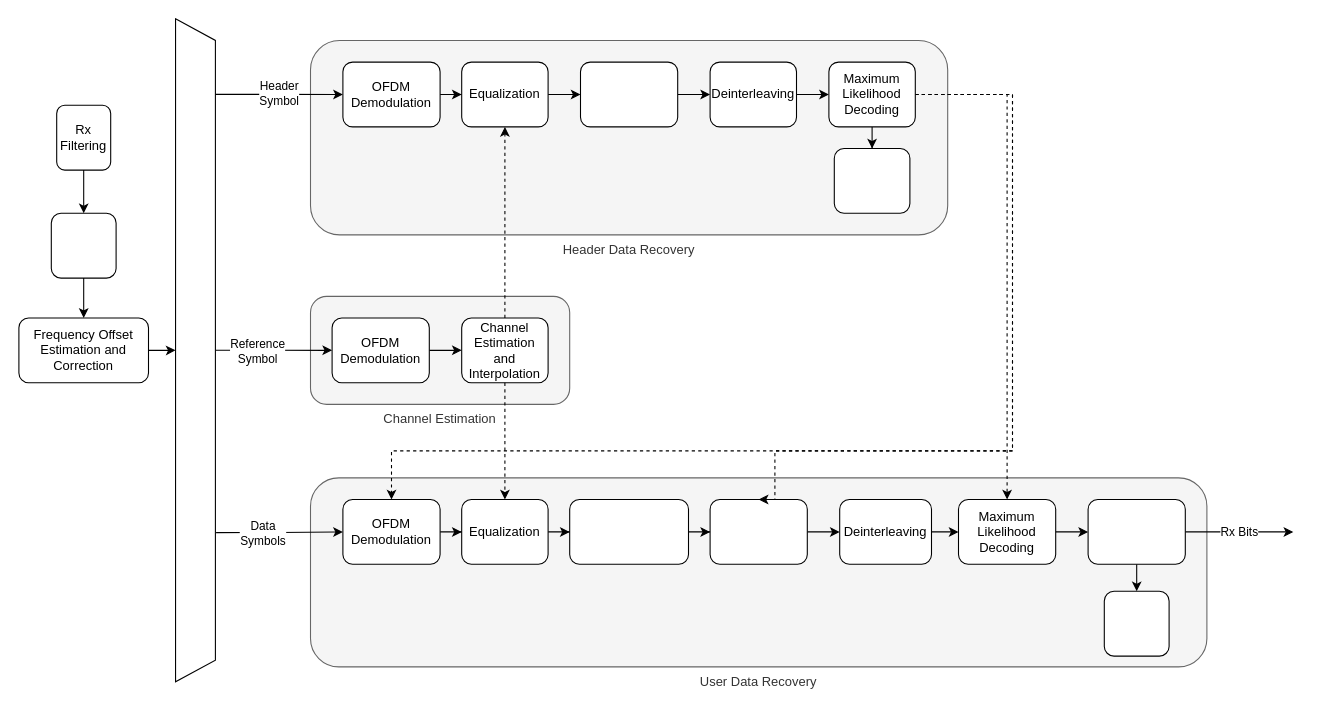
This 1321x708 diagram has some shape labels left out. Each missing label, with the box of its shape:
BPSK Soft Demodulation: (579, 61, 678, 127)
Carrier Phase Estimation and Correction: (569, 498, 688, 564)
CRC Decoder: (1103, 590, 1169, 656)
CRC Decoding: (833, 147, 910, 213)
Demultiplexer: (175, 18, 215, 682)
Descrambler: (1087, 498, 1185, 564)
QAM Soft Demodulation: (709, 498, 807, 564)
Sample Buffering: (50, 212, 116, 278)
